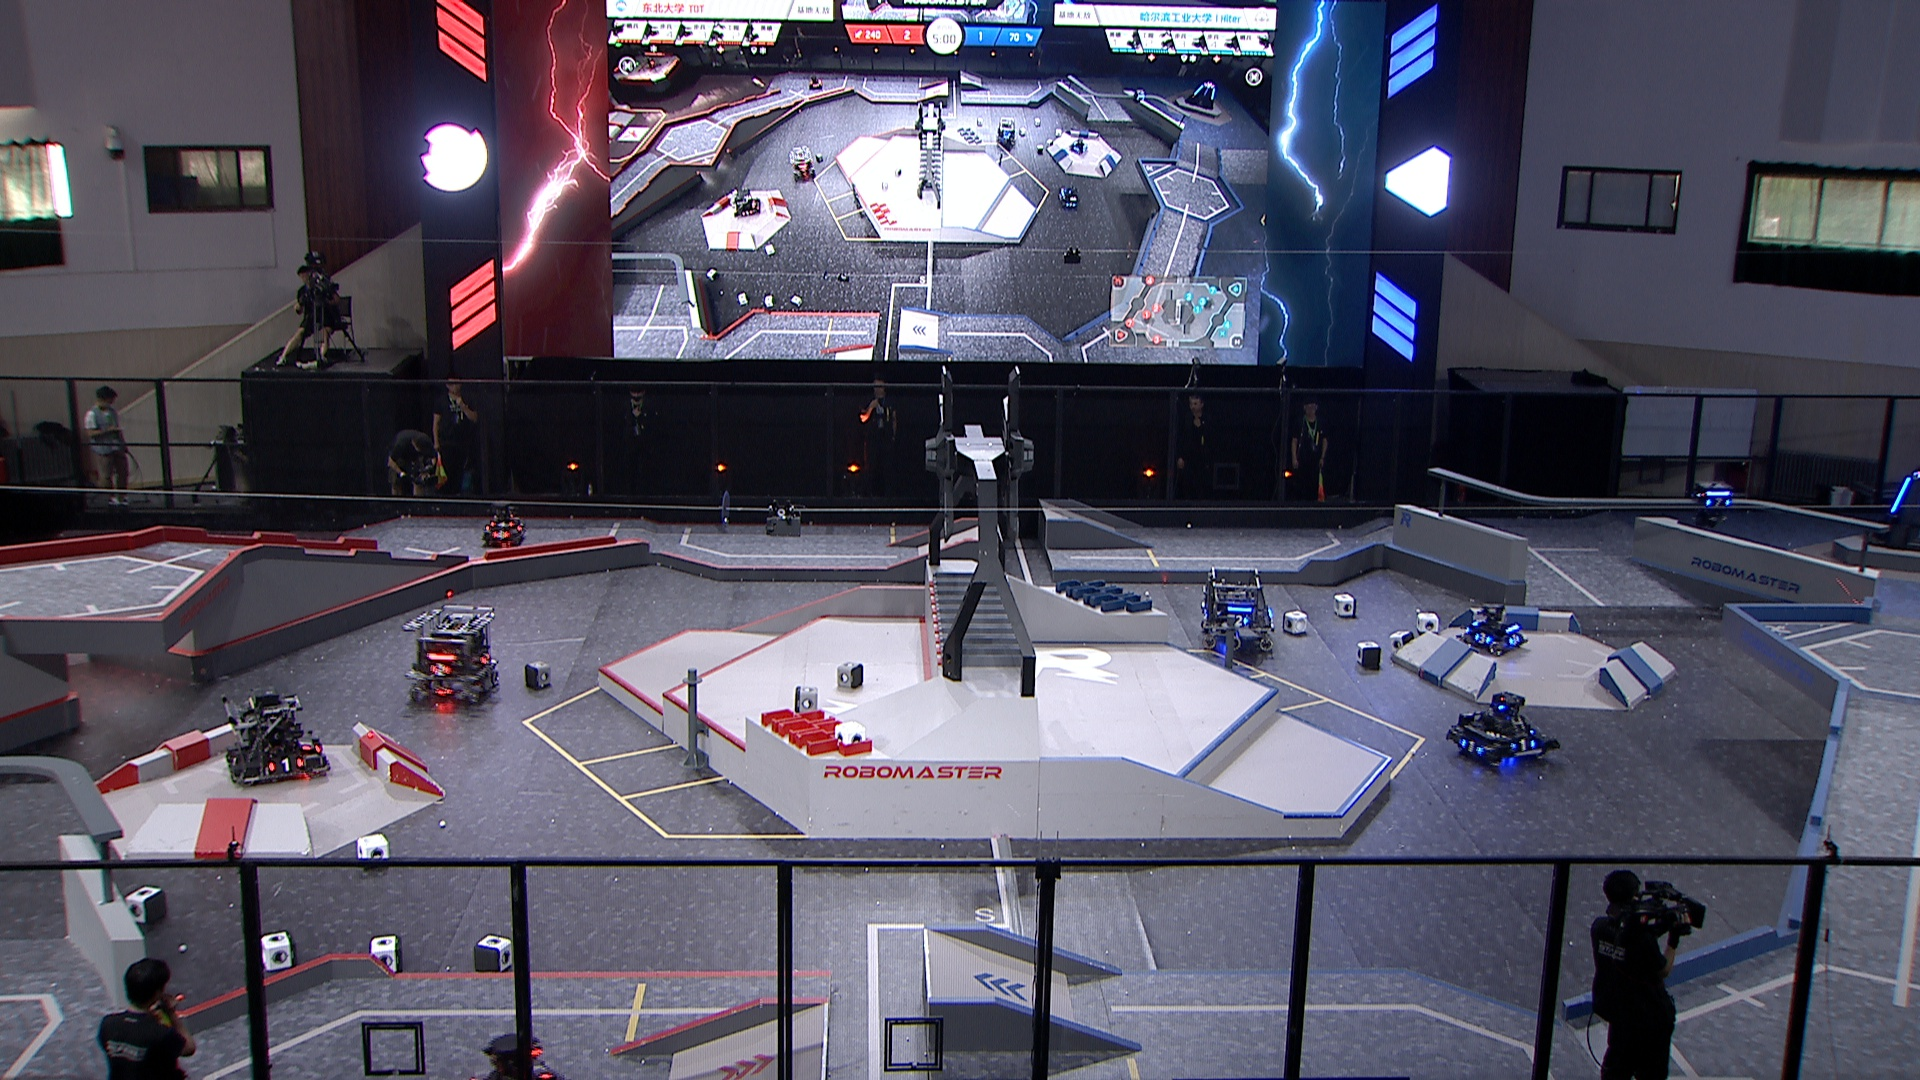armor: (1888, 476, 1912, 513), (268, 756, 305, 773), (1460, 736, 1480, 760), (529, 1058, 550, 1077), (1705, 495, 1730, 509), (1509, 738, 1534, 752), (430, 662, 448, 679), (479, 647, 491, 669), (1472, 632, 1490, 644), (299, 736, 314, 750), (489, 518, 512, 527), (1232, 613, 1245, 626), (1509, 633, 1520, 646), (491, 529, 506, 538)
base: (1865, 465, 1920, 555)
car: (214, 683, 332, 785), (404, 600, 500, 708), (1448, 688, 1557, 774), (1200, 562, 1275, 655), (467, 1029, 560, 1080), (1457, 600, 1524, 655), (483, 502, 527, 550)
ignore: (727, 185, 761, 219), (789, 144, 818, 181), (1183, 78, 1215, 111), (994, 115, 1015, 149), (1058, 185, 1083, 208), (1127, 86, 1149, 107), (1068, 136, 1091, 154), (806, 74, 825, 90)
watcher: (1692, 480, 1735, 537)
